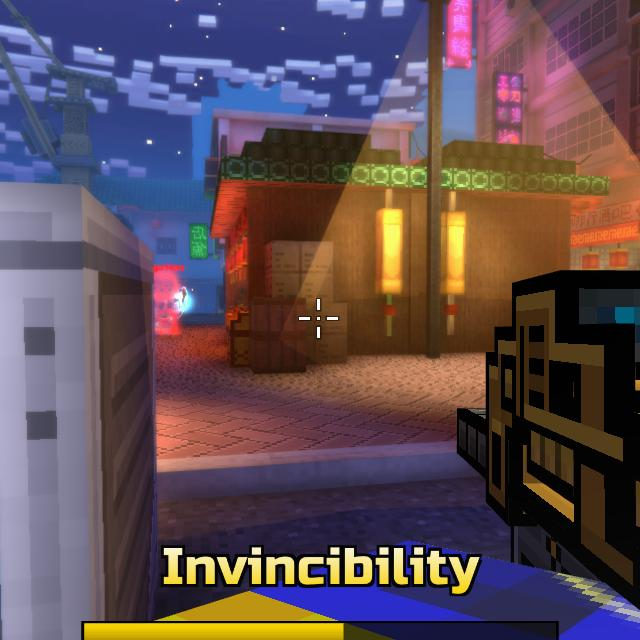Enemy: (154, 276, 180, 336)
